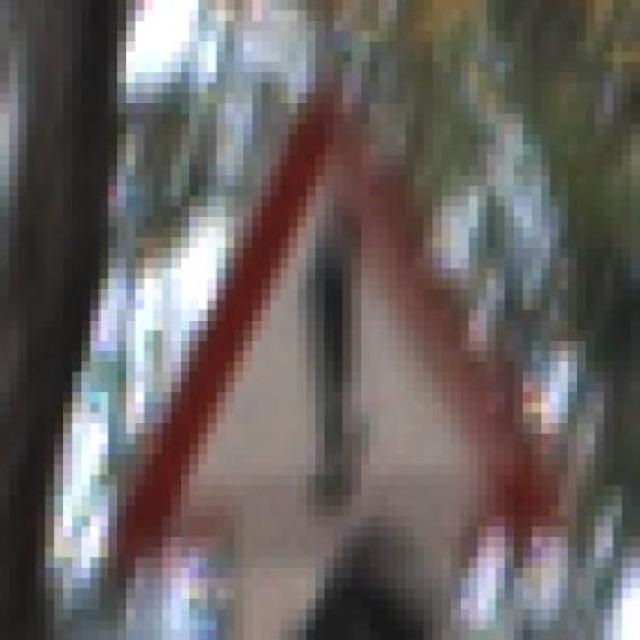Attention Please-: (80, 87, 585, 551)
